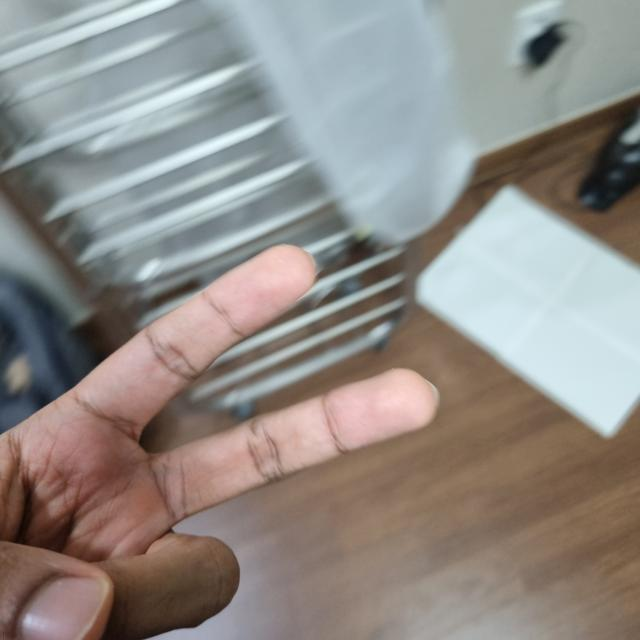Scissors: (0, 250, 434, 639)
